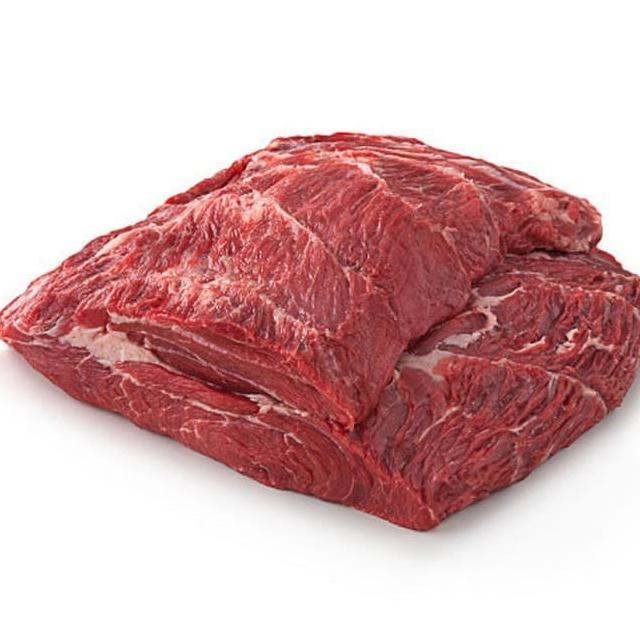beef: (0, 88, 640, 525)
